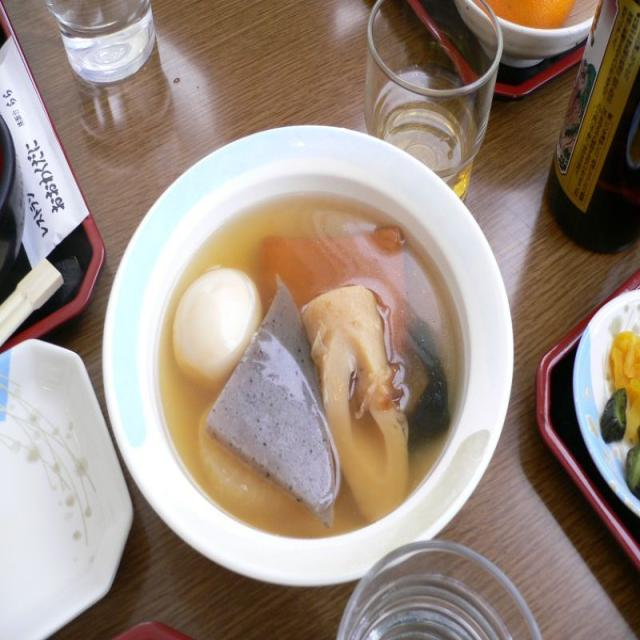汤锅炖物: (165, 196, 454, 529)
